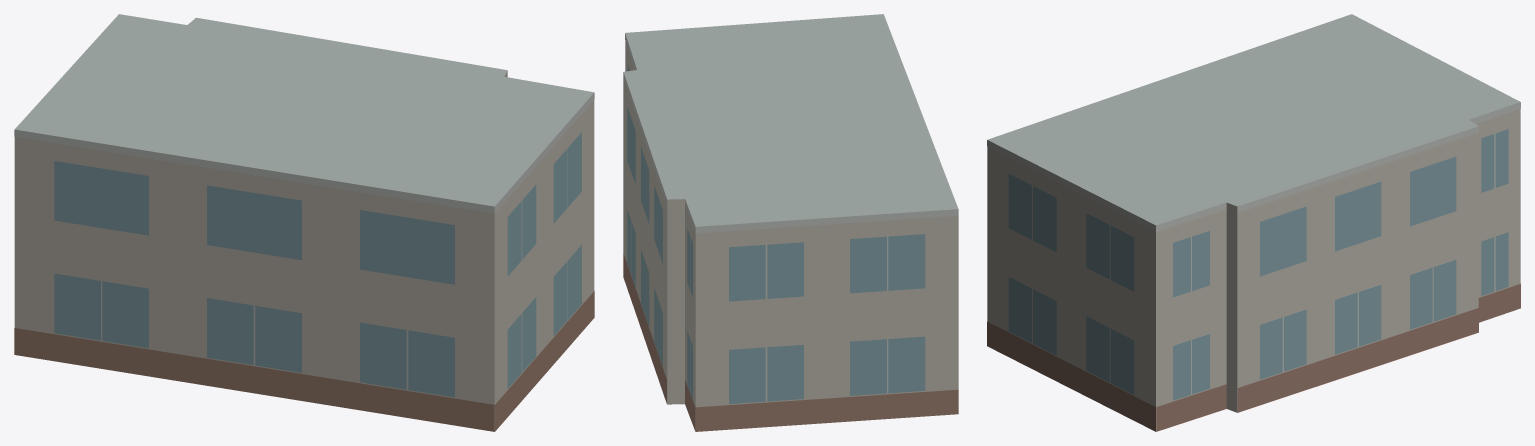
Rendered from survey-upis-32959466.glb.
3 views of the same model, side by side, from view 1: azimuth 30°, elevation 25°; view 2: azimuth 150°, elevation 25°; view 3: azimuth 270°, elevation 25° (orthographic). The views are drawn at different scales.
Parts seen in each view (by area): view 1: survey-upis-32959466.tmp; view 2: survey-upis-32959466.tmp; view 3: survey-upis-32959466.tmp.
Boxes of the visible parts, box(x1,y1,x2,y2) form: survey-upis-32959466.tmp: box(14, 14, 594, 431); survey-upis-32959466.tmp: box(623, 14, 958, 431); survey-upis-32959466.tmp: box(987, 14, 1520, 431).
Bounding box in the file's own units: 16.6 × 7.55 × 17.7.
